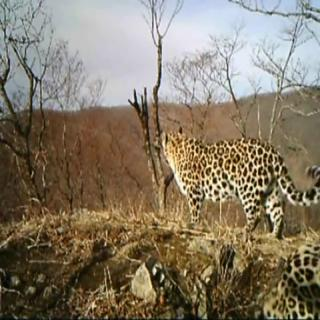Leopard: (157, 126, 320, 233)
